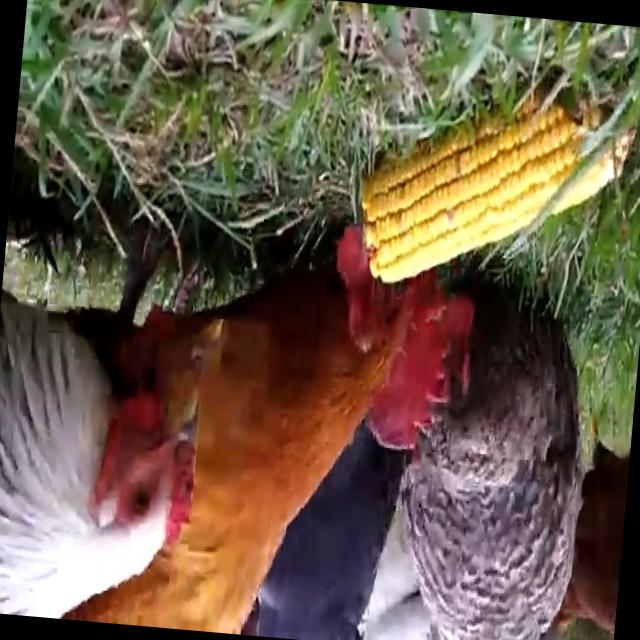feeding: (81, 220, 464, 640)
